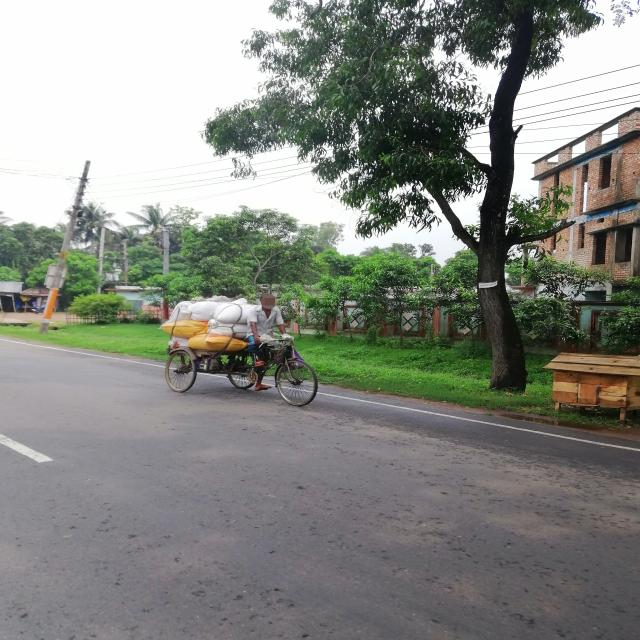Van: (156, 296, 330, 408)
